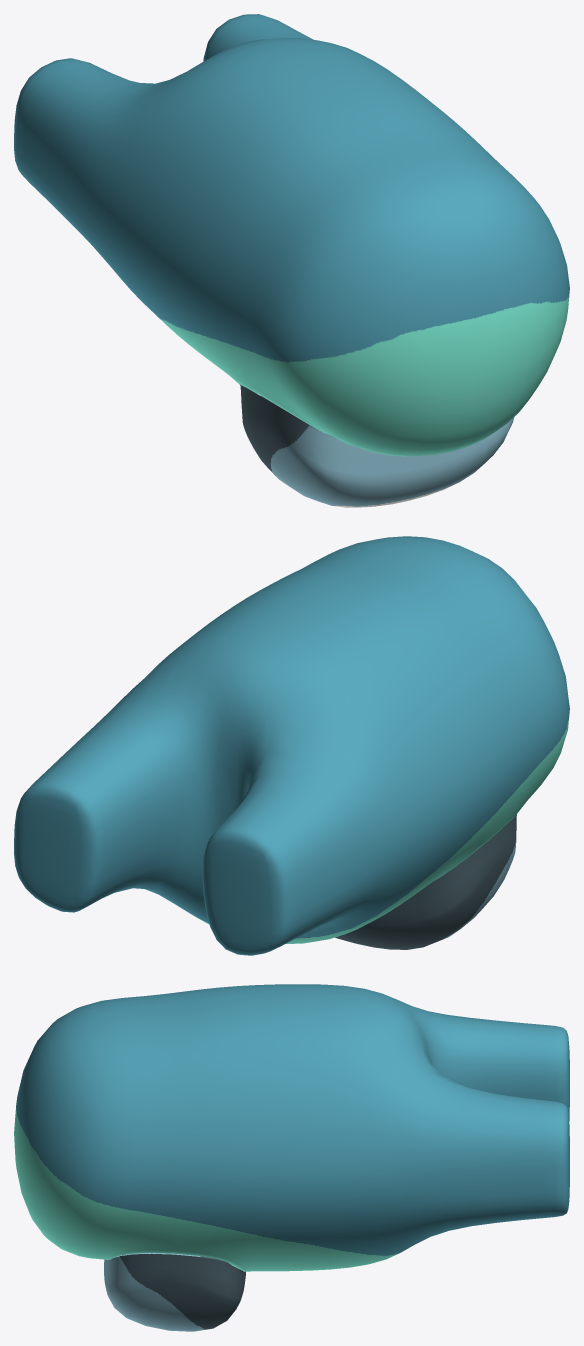
The model's file is CyanAstronaut.obj.
3 renders of one model, top to bottom at view 1: azimuth 30°, elevation 25°; view 2: azimuth 150°, elevation 25°; view 3: azimuth 270°, elevation 25°, orthographic. The views are drawn at different scales.
Parts seen in each view (by area): view 1: Cube.002; view 2: Cube.002; view 3: Cube.002.
Part boxes in pixels (x1,y1,x2,y2): Cube.002: (14,14,569,507); Cube.002: (14,536,569,955); Cube.002: (14,984,569,1331).
Size of the model in its own units: 255 by 293 by 471.
Materials: 1 (1 with a texture image).
